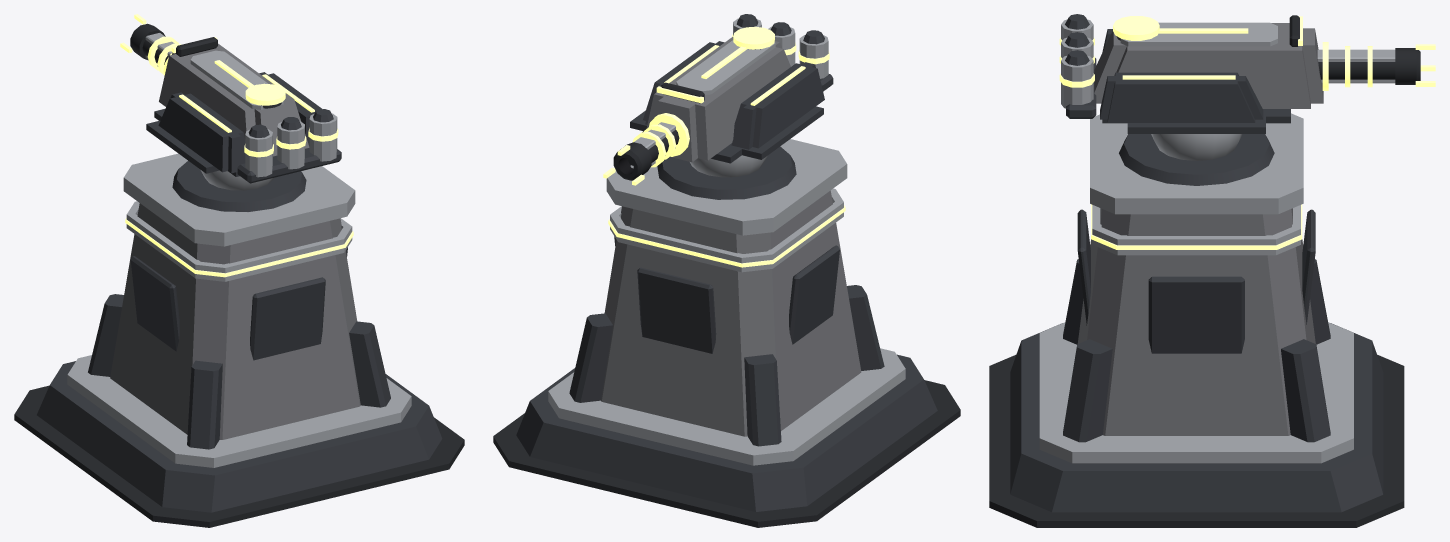
File: Tower_T2_Electro.fbx
The picture shows the model from 3 angles, left to right: view 1: azimuth 30°, elevation 25°; view 2: azimuth 150°, elevation 25°; view 3: azimuth 270°, elevation 25°; orthographic projection. The views are drawn at different scales.
Visible parts, largest first — view 1: EL_Core, EL_Base, EL_Base_Plate, EL_Collar, EL_Base_Skirt, EL_Core_Plate_1, EL_Turret_Hull, EL_Cheek_L, EL_Core_Band, EL_Rotation_Plate, EL_Core_Plate_3, EL_Brace_2 (+13 smaller); view 2: EL_Core, EL_Base, EL_Base_Plate, EL_Base_Skirt, EL_Collar, EL_Turret_Hull, EL_Core_Plate_0, EL_Cheek_L, EL_Rotation_Plate, EL_Core_Band, EL_Core_Plate_3, EL_Brace_1 (+11 smaller); view 3: EL_Core, EL_Base, EL_Base_Plate, EL_Base_Skirt, EL_Collar, EL_Turret_Hull, EL_Core_Plate_2, EL_Cheek_R, EL_Rotation_Plate, EL_Core_Band, EL_Brace_0, EL_Brace_3 (+16 smaller).
Part boxes in pixels (<box>): EL_Core: <box>110,203,360,439</box>; EL_Base: <box>37,361,442,512</box>; EL_Base_Plate: <box>67,355,411,467</box>; EL_Collar: <box>123,153,355,246</box>; EL_Base_Skirt: <box>14,385,464,527</box>; EL_Core_Plate_1: <box>250,277,325,360</box>; EL_Turret_Hull: <box>159,43,309,156</box>; EL_Cheek_L: <box>158,92,245,173</box>; EL_Core_Band: <box>126,201,352,281</box>; EL_Rotation_Plate: <box>172,161,306,211</box>; EL_Core_Plate_3: <box>130,256,179,351</box>; EL_Brace_2: <box>187,360,222,449</box>; EL_Core: <box>601,190,861,436</box>; EL_Base: <box>516,354,937,511</box>; EL_Base_Plate: <box>548,348,905,465</box>; EL_Base_Skirt: <box>493,380,960,527</box>; EL_Collar: <box>606,139,847,235</box>; EL_Turret_Hull: <box>646,37,790,162</box>; EL_Core_Plate_0: <box>637,267,716,353</box>; EL_Cheek_L: <box>731,62,824,149</box>; EL_Rotation_Plate: <box>657,146,796,199</box>; EL_Core_Band: <box>610,188,843,272</box>; EL_Core_Plate_3: <box>789,245,839,344</box>; EL_Brace_1: <box>744,354,781,446</box>; EL_Core: <box>1077,208,1315,435</box>; EL_Base: <box>1010,323,1383,512</box>; EL_Base_Plate: <box>1039,322,1353,463</box>; EL_Base_Skirt: <box>989,355,1404,527</box>; EL_Collar: <box>1090,113,1303,214</box>; EL_Turret_Hull: <box>1094,23,1323,108</box>; EL_Core_Plate_2: <box>1148,276,1244,353</box>; EL_Cheek_R: <box>1100,72,1263,122</box>; EL_Rotation_Plate: <box>1119,134,1274,185</box>; EL_Core_Band: <box>1092,205,1300,255</box>; EL_Brace_0: <box>1281,339,1330,442</box>; EL_Brace_3: <box>1063,339,1112,442</box>.
Size of the model in its own units: 3.3 by 3.64 by 3.55.
